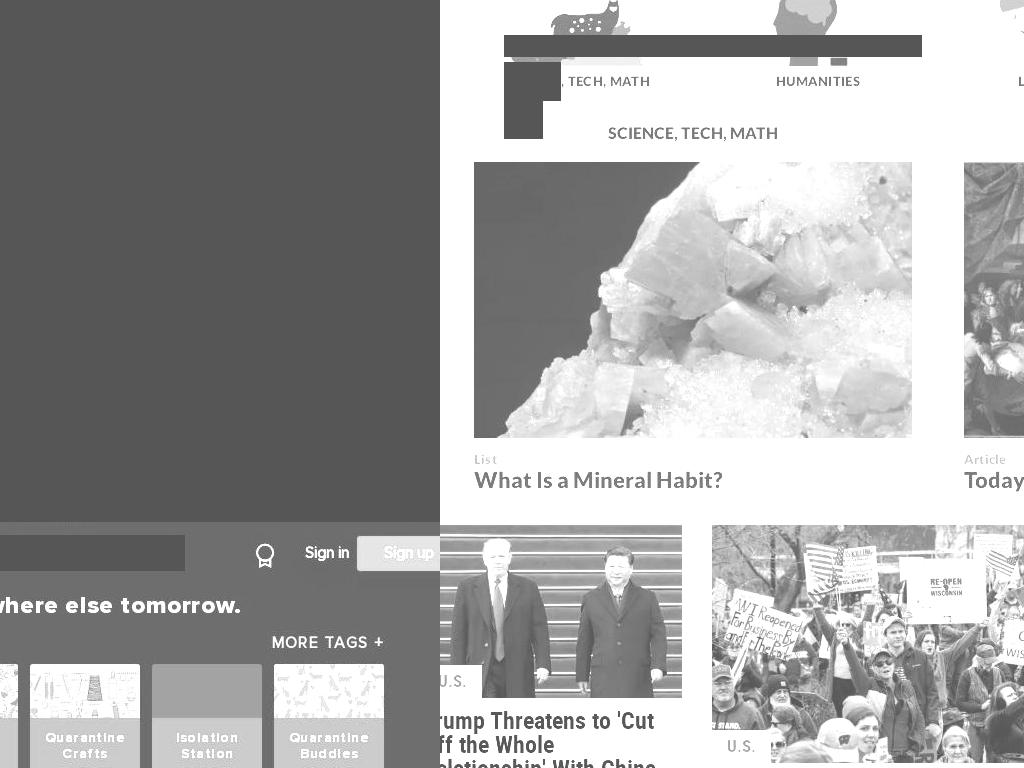button: (474, 161, 912, 513), (712, 525, 1024, 763), (440, 525, 683, 699), (458, 0, 698, 106), (698, 0, 938, 106), (30, 664, 140, 768), (152, 664, 262, 768), (274, 664, 384, 768), (504, 401, 922, 424), (504, 35, 922, 57), (938, 0, 1024, 106), (504, 428, 715, 468), (504, 177, 638, 216), (504, 215, 635, 254), (504, 139, 616, 178), (357, 535, 440, 571), (954, 100, 1024, 140), (954, 428, 1024, 468), (954, 62, 1024, 101), (954, 139, 1024, 178), (954, 215, 1024, 254), (954, 253, 1024, 292), (954, 467, 1024, 506), (504, 62, 561, 101), (504, 467, 561, 506), (954, 177, 1006, 216), (271, 634, 384, 651), (954, 291, 998, 331), (504, 100, 543, 140), (148, 535, 185, 571), (954, 505, 1024, 522), (504, 505, 555, 522), (305, 544, 349, 562), (250, 556, 282, 572)
field: (0, 535, 185, 571)
heading: (440, 708, 656, 768), (603, 125, 783, 142)
image: (0, 0, 440, 522), (474, 161, 912, 439), (0, 522, 440, 768), (712, 525, 1024, 763), (440, 525, 683, 699), (503, 0, 653, 66), (763, 0, 873, 66), (250, 539, 282, 571), (156, 543, 177, 563)
link: (474, 451, 912, 468), (727, 733, 757, 757), (440, 669, 467, 693)
text: (474, 467, 912, 494), (0, 593, 242, 627), (458, 71, 698, 91), (698, 71, 938, 91), (42, 730, 128, 762), (164, 730, 250, 762), (286, 730, 372, 762), (938, 71, 1024, 91), (383, 545, 434, 561)
